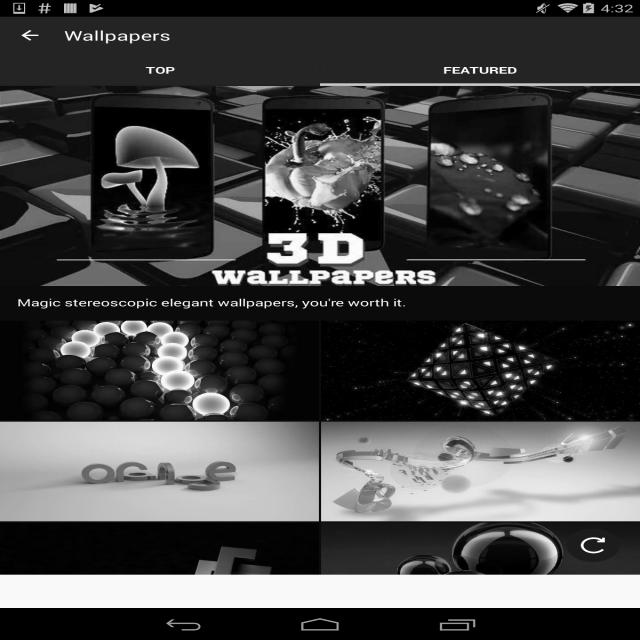ImageButton: (0, 17, 60, 54)
ImageView: (0, 86, 640, 286), (0, 321, 319, 420), (321, 321, 640, 420), (0, 422, 319, 521), (321, 422, 640, 521), (0, 523, 319, 622), (321, 523, 640, 622), (563, 527, 623, 564)
TextView: (0, 286, 640, 319), (0, 54, 320, 86), (320, 54, 640, 86), (64, 26, 171, 44)
